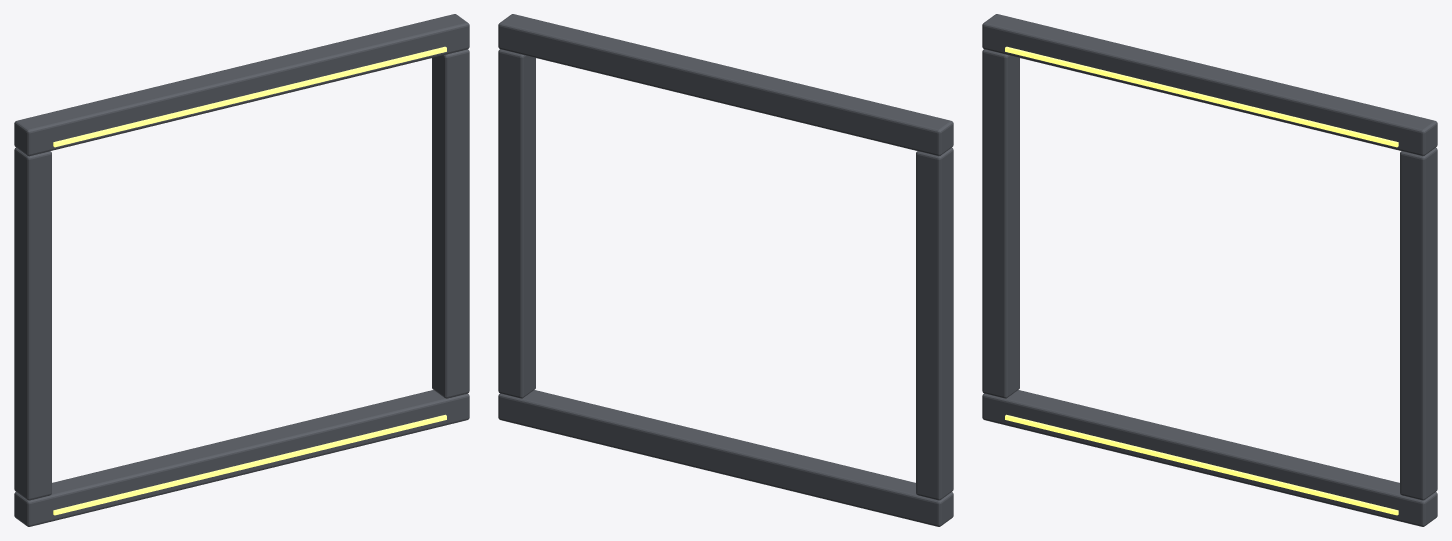
File: window_surround_slit_frame.glb
3 renders of one model, left to right at view 1: azimuth 30°, elevation 25°; view 2: azimuth 150°, elevation 25°; view 3: azimuth 330°, elevation 25°, orthographic.
Visible parts, largest first — view 1: GD_window_surround_slit_frame__m0, GD_window_surround_slit_frame__m1; view 2: GD_window_surround_slit_frame__m0; view 3: GD_window_surround_slit_frame__m0, GD_window_surround_slit_frame__m1.
Boxes of the visible parts, x1,y1,x2,y2 form: GD_window_surround_slit_frame__m0: [14, 14, 469, 526]; GD_window_surround_slit_frame__m1: [53, 46, 446, 515]; GD_window_surround_slit_frame__m0: [498, 14, 953, 526]; GD_window_surround_slit_frame__m0: [982, 14, 1437, 526]; GD_window_surround_slit_frame__m1: [1005, 46, 1398, 515].
Size of the model in its own units: 1.75 by 1.5 by 0.111.
